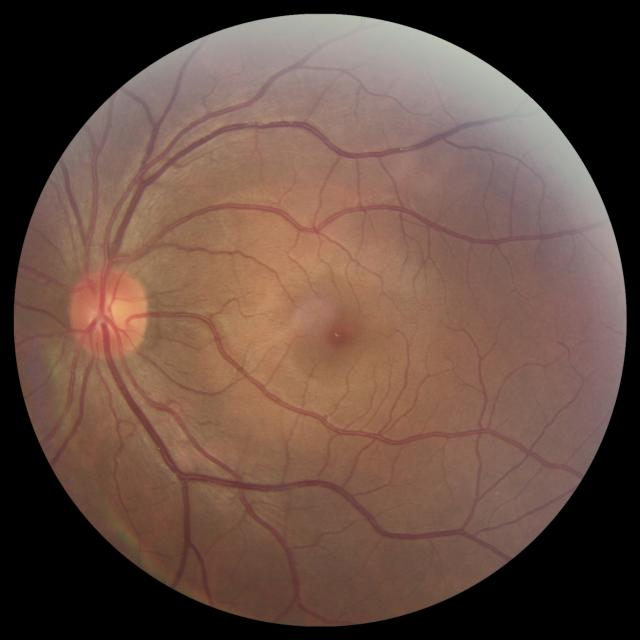OC: (92, 295, 126, 330)
OD: (67, 266, 149, 360)
